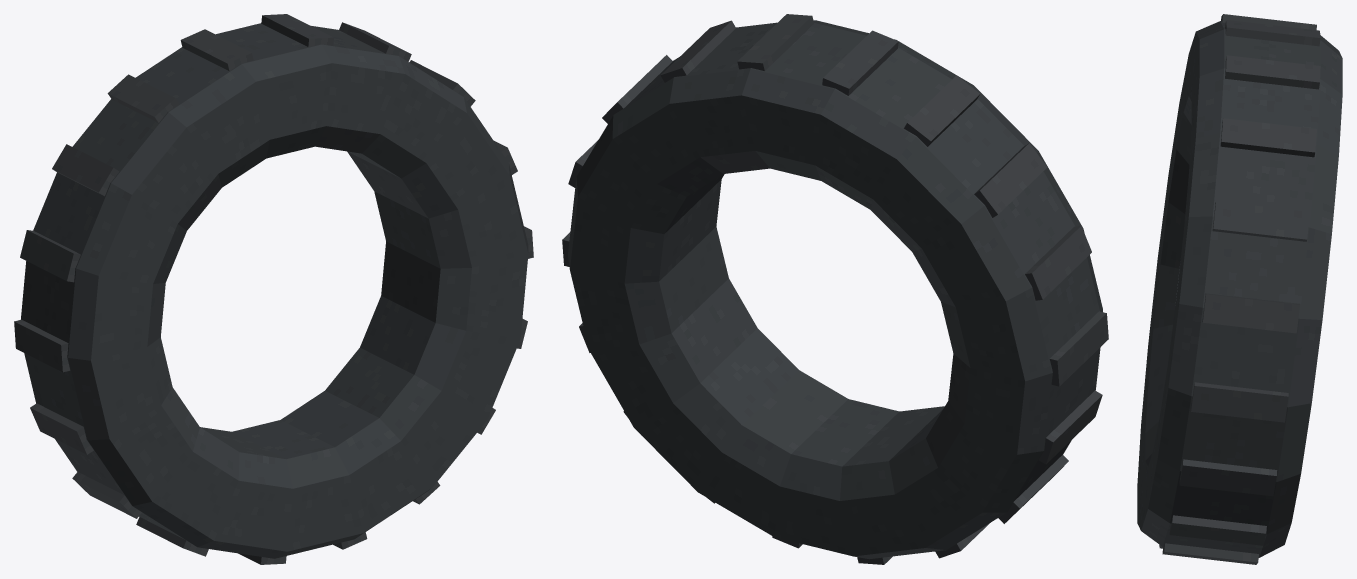
File: tire_motorbike.glb
The picture shows the model from 3 angles, left to right: view 1: azimuth 30°, elevation 25°; view 2: azimuth 150°, elevation 25°; view 3: azimuth 270°, elevation 25°; orthographic projection. The views are drawn at different scales.
Visible parts, largest first — view 1: block_wheel cross section, block_tread block (×10); view 2: block_wheel cross section, block_tread block (×10); view 3: block_wheel cross section, block_tread block (×10).
Part boxes in pixels (x1,y1,x2,y2): block_wheel cross section: [21, 23, 528, 558]; block_tread block (×10): [14, 14, 411, 556]; block_wheel cross section: [568, 20, 1102, 559]; block_tread block (×10): [602, 14, 1108, 523]; block_wheel cross section: [1137, 21, 1342, 557]; block_tread block (×10): [1162, 14, 1320, 564].
Size of the model in its own units: 0.4038 by 0.407 by 0.1526.
Materials: 1 (1 with a texture image).
